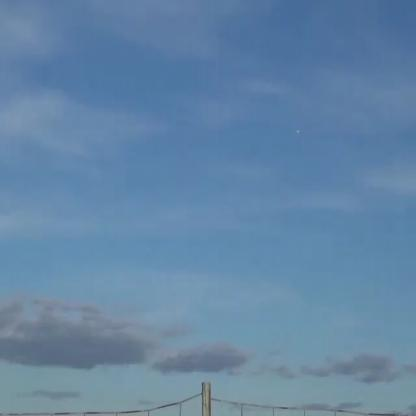CIV_Plane: (294, 126, 301, 136)
